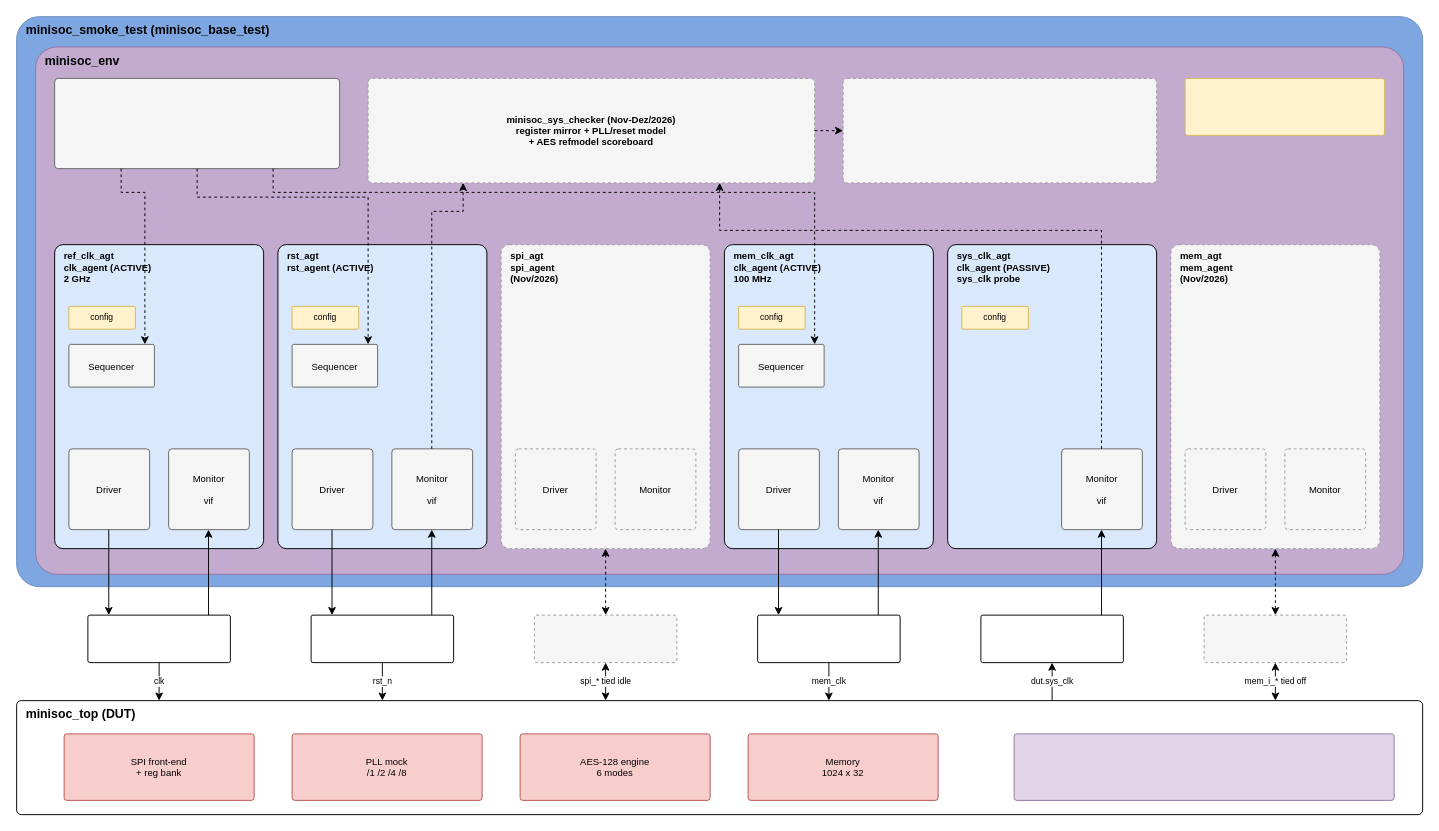
Image size: 1439x831. Some labels were removed from this diagram. Here are the shapes that lost their labels. From the top down, the centre of each, then its label:
At pixel 197 123: "minisoc_vsequencer vseq: minisoc_smoke_vseq (ref_clk, rst, mem_clk sequencers)".
At pixel 1284 106: "minisoc_env_cfg".
At pixel 999 130: "minisoc_cov (Jan/2027) functional coverage".
At pixel 158 638: "ref_clk_if (clk_if)".
At pixel 382 638: "rst_if".
At pixel 605 638: "spi_if (Nov/2026)".
At pixel 828 638: "mem_clk_if (clk_if)".
At pixel 1051 638: "sys_clk_if (clk_if)".
At pixel 1275 638: "mem_if (Nov/2026)".
At pixel 1203 766: "minisoc_top_sva (bind) A-RST-01..03 A-PLL-03".
